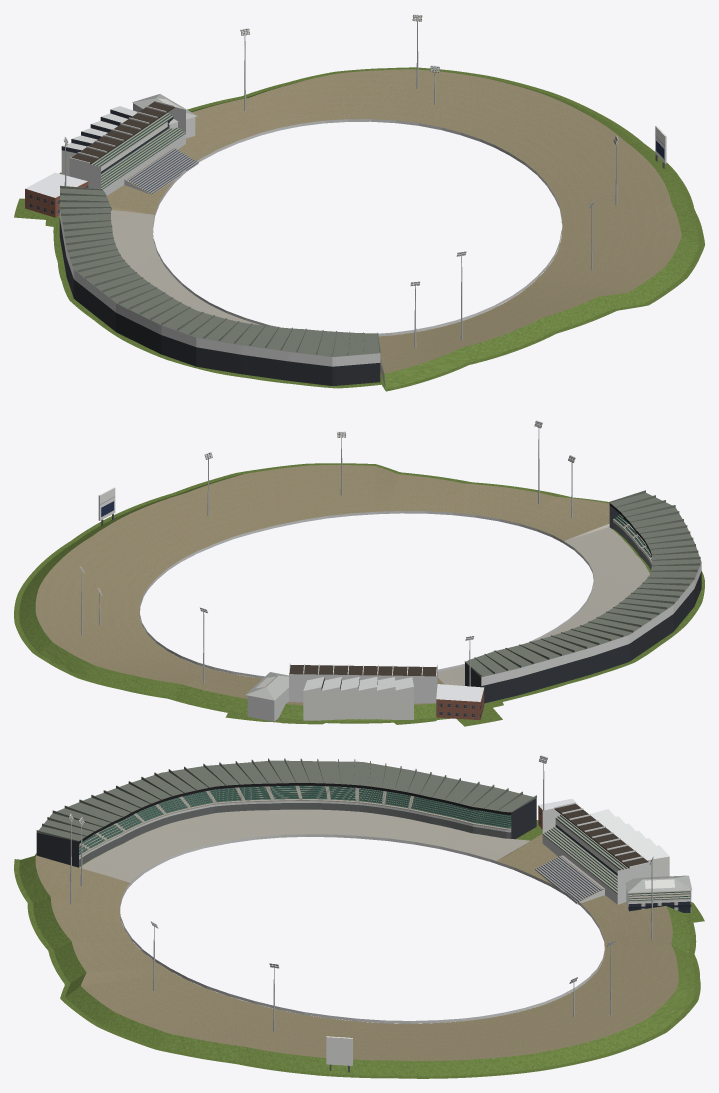
The model's file is moorabbin.glb.
The picture shows the model from 3 angles, top to bottom: view 1: azimuth 30°, elevation 25°; view 2: azimuth 150°, elevation 25°; view 3: azimuth 270°, elevation 25°; orthographic projection. The views are drawn at different scales.
Visible parts, largest first — view 1: terrace, grandstand, huggins_stand, fence, club_whiteblock, club_sawtooth, light_towers, ian_drake_pavilion; view 2: terrace, grandstand, club_sawtooth, huggins_stand, fence, ian_drake_pavilion, club_whiteblock, light_towers, scoreboard; view 3: terrace, grandstand, huggins_stand, fence, ian_drake_pavilion, club_sawtooth, light_towers, scoreboard.
Part boxes in pixels (x1=…): terrace: x1=14, y1=67, x2=704, y2=391; grandstand: x1=59, y1=185, x2=380, y2=385; huggins_stand: x1=69, y1=100, x2=198, y2=195; fence: x1=153, y1=119, x2=561, y2=336; club_whiteblock: x1=25, y1=172, x2=88, y2=217; club_sawtooth: x1=61, y1=106, x2=137, y2=176; light_towers: x1=63, y1=14, x2=618, y2=348; ian_drake_pavilion: x1=132, y1=94, x2=197, y2=138; terrace: x1=14, y1=463, x2=704, y2=726; grandstand: x1=464, y1=490, x2=701, y2=703; club_sawtooth: x1=303, y1=677, x2=413, y2=720; huggins_stand: x1=289, y1=663, x2=437, y2=703; fence: x1=139, y1=511, x2=594, y2=678; ian_drake_pavilion: x1=245, y1=672, x2=288, y2=721; club_whiteblock: x1=436, y1=684, x2=484, y2=720; light_towers: x1=79, y1=420, x2=575, y2=686; scoreboard: x1=98, y1=487, x2=115, y2=525; terrace: x1=14, y1=809, x2=704, y2=1078; grandstand: x1=36, y1=758, x2=536, y2=867; huggins_stand: x1=535, y1=802, x2=650, y2=904; fence: x1=120, y1=834, x2=604, y2=1023; ian_drake_pavilion: x1=625, y1=875, x2=692, y2=912; club_sawtooth: x1=590, y1=809, x2=669, y2=876; light_towers: x1=69, y1=755, x2=653, y2=1031; scoreboard: x1=326, y1=1036, x2=352, y2=1072.
Size of the model in its own units: 234 by 35.32 by 234.
41 materials, 41 textured.
